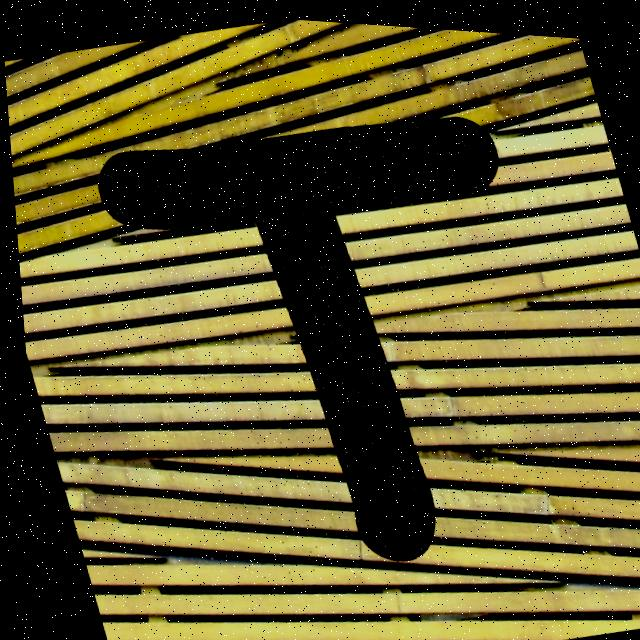T: (96, 110, 496, 555)
